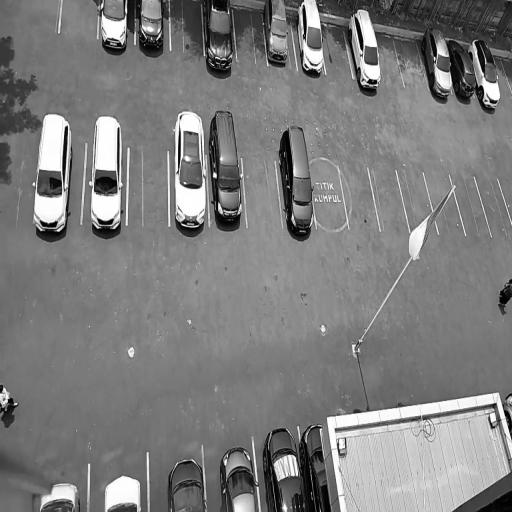Car: (26, 106, 75, 241), (204, 101, 247, 237), (86, 104, 127, 242), (171, 106, 211, 238), (274, 119, 319, 236), (260, 423, 306, 512), (342, 5, 387, 95), (200, 0, 240, 79), (464, 37, 506, 111), (417, 23, 457, 100), (300, 417, 331, 512), (215, 443, 257, 512), (293, 0, 328, 78), (162, 453, 205, 512), (446, 34, 480, 103), (98, 0, 134, 55), (134, 0, 168, 57), (97, 471, 144, 512), (36, 479, 82, 512)
Space Available: (127, 149, 169, 226), (242, 155, 282, 227), (368, 168, 410, 232), (339, 165, 380, 229), (397, 169, 438, 233), (450, 175, 493, 236), (424, 171, 465, 233), (310, 165, 349, 229), (474, 175, 512, 237), (393, 34, 429, 90), (320, 20, 353, 78), (234, 8, 268, 64), (170, 0, 205, 54), (375, 30, 404, 87), (494, 53, 512, 99), (498, 176, 512, 227)
